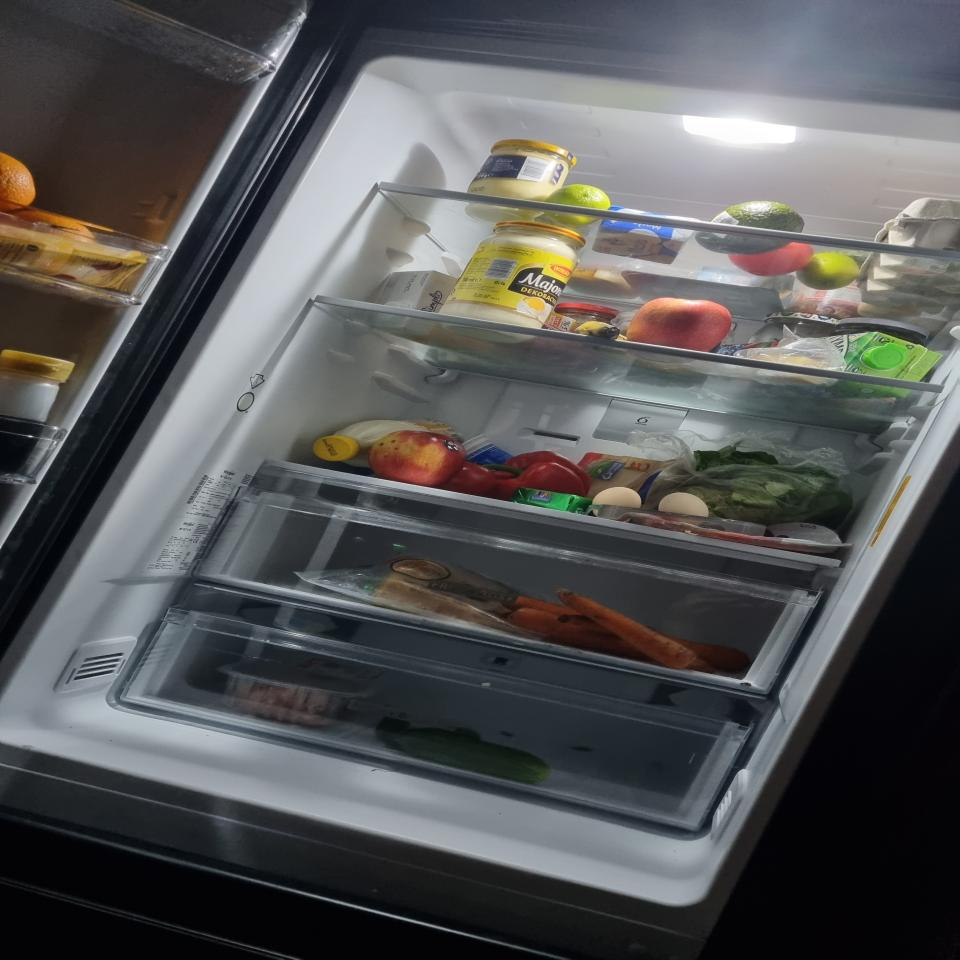Aguacate: (694, 201, 805, 254)
Carne pollo: (213, 657, 384, 728)
Huevos: (855, 197, 960, 314), (590, 487, 708, 526)
Leche: (369, 270, 523, 364), (314, 419, 465, 468)
Lechuga/Endivia: (648, 445, 854, 531)
Mantequilla: (592, 205, 700, 265), (513, 486, 593, 516)
Manzana: (627, 298, 733, 352), (368, 430, 466, 486)
Pepino: (376, 716, 552, 785)
Plátano: (573, 321, 628, 341)
Queso: (373, 558, 542, 640), (0, 222, 147, 290), (577, 452, 663, 500), (752, 355, 828, 385)
Tomate: (728, 239, 814, 277)
Zanahoria: (508, 588, 751, 675)
